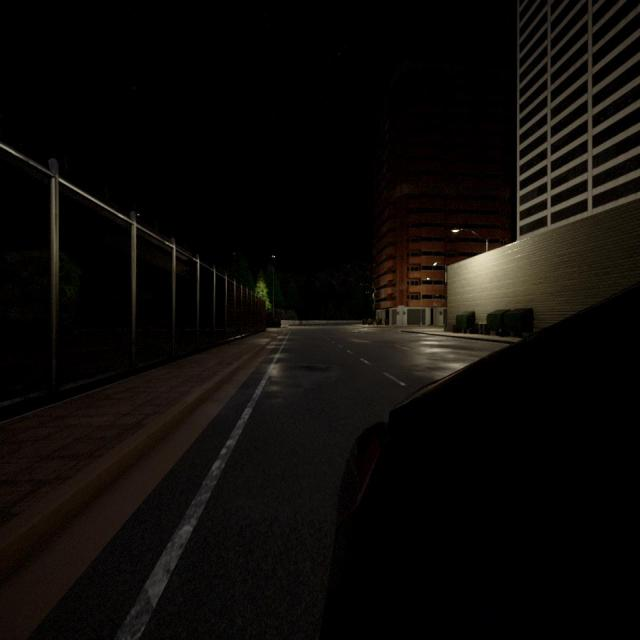Vehicle: (321, 286, 640, 640)
